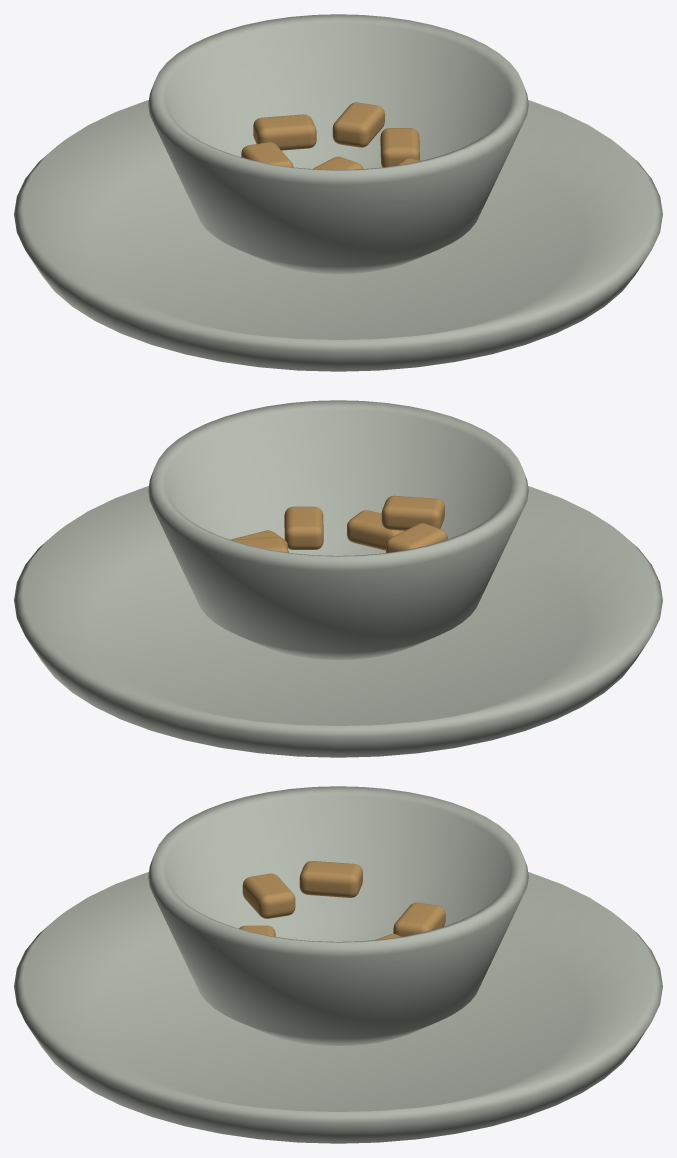
File: otsumami-bowl.glb
3 renders of one model, top to bottom at view 1: azimuth 30°, elevation 25°; view 2: azimuth 150°, elevation 25°; view 3: azimuth 270°, elevation 25°, orthographic.
Parts seen in each view (by area): view 1: Stoneware | warm ash glaze, Toasted rice crackers; view 2: Stoneware | warm ash glaze, Toasted rice crackers; view 3: Stoneware | warm ash glaze, Toasted rice crackers.
Boxes of the visible parts, x1,y1,x2,y2 form: Stoneware | warm ash glaze: (14, 14, 662, 371); Toasted rice crackers: (241, 102, 421, 169); Stoneware | warm ash glaze: (14, 400, 662, 757); Toasted rice crackers: (230, 495, 447, 552); Stoneware | warm ash glaze: (14, 786, 662, 1143); Toasted rice crackers: (239, 861, 445, 940).
Size of the model in its own units: 0.15 by 0.043 by 0.15.
